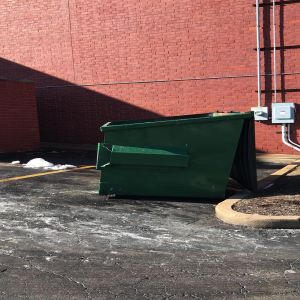Dumpster: (94, 109, 264, 206)
